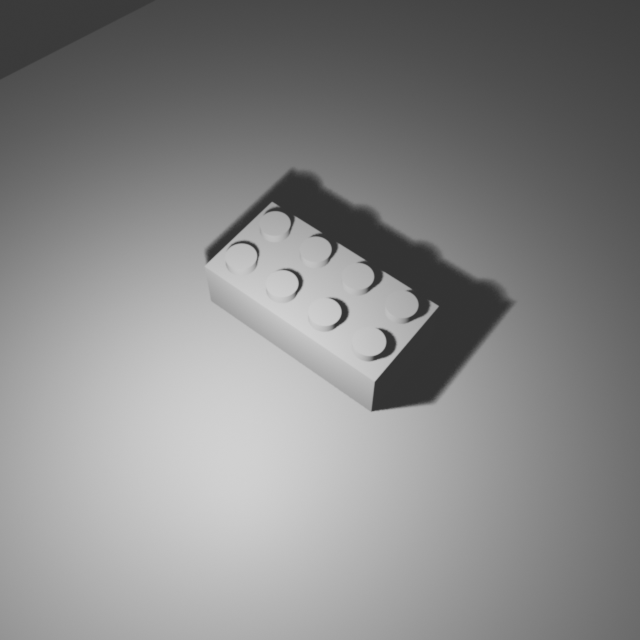lego_2x4: (203, 195, 440, 412)
